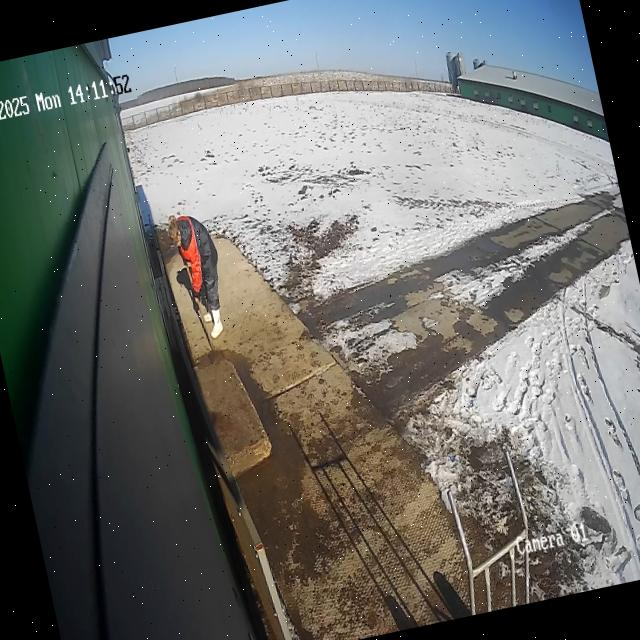Red uniform: (162, 205, 236, 346)
